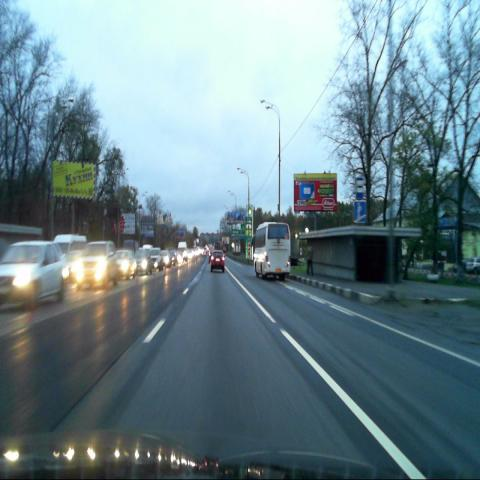6_6: (354, 201, 366, 224)
